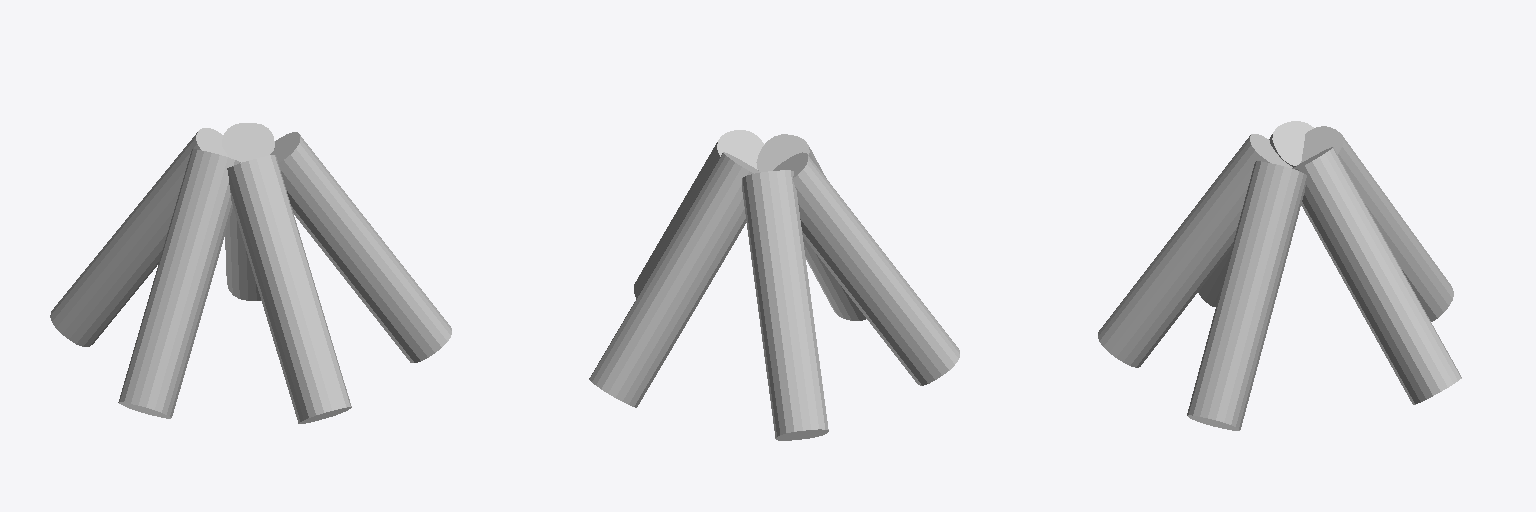
Rendered from campfire.obj.
The picture shows the model from 3 angles: view 1: azimuth 30°, elevation 25°; view 2: azimuth 150°, elevation 25°; view 3: azimuth 270°, elevation 25°; orthographic projection.
Bounding box in the file's own units: 2.82 × 1.87 × 2.75.